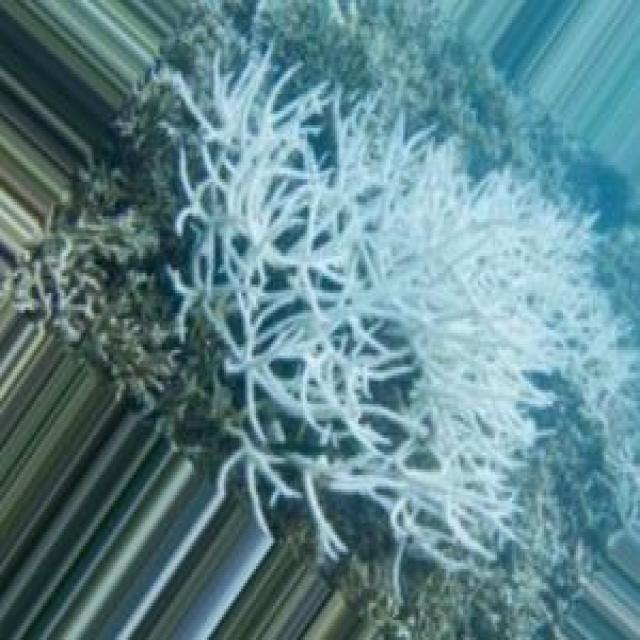Bleached: (174, 51, 640, 619)
